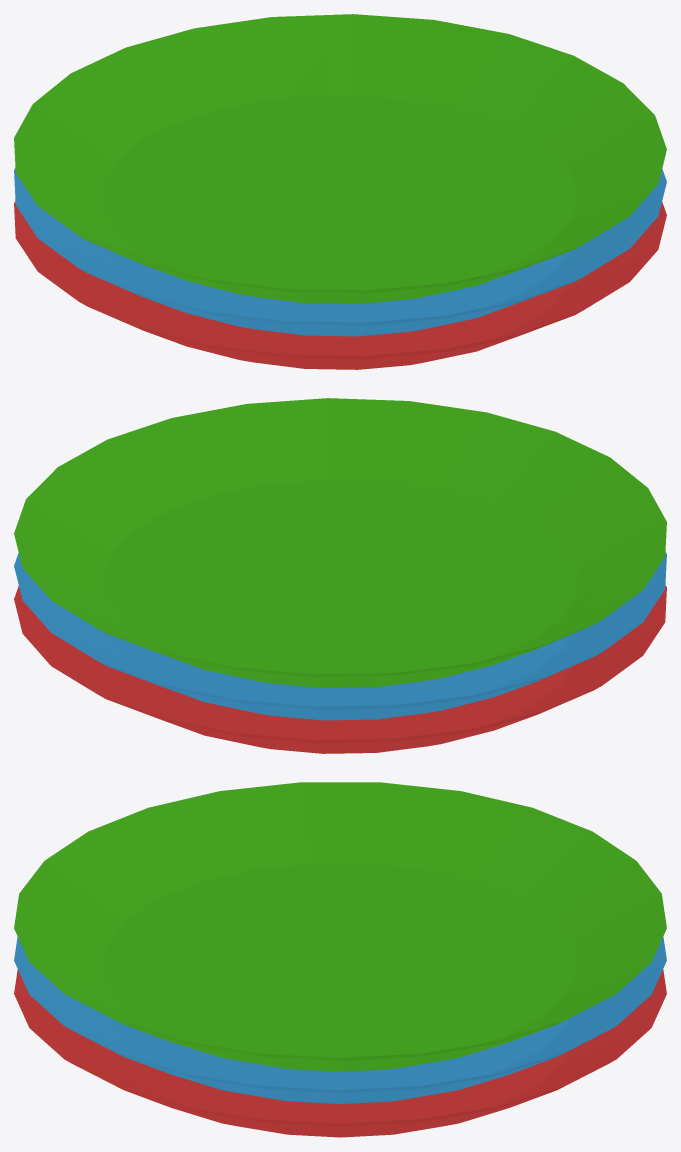
Rendered from Dishes.FBX.
The picture shows the model from 3 angles, top to bottom: view 1: azimuth 30°, elevation 25°; view 2: azimuth 150°, elevation 25°; view 3: azimuth 270°, elevation 25°; orthographic projection.
Parts seen in each view (by area): view 1: dish3, dish 1, dish 2; view 2: dish3, dish 1, dish 2; view 3: dish3, dish 1, dish 2.
Part boxes in pixels (bbox=[...]): dish3: bbox=[14, 14, 666, 303]; dish 1: bbox=[14, 201, 666, 369]; dish 2: bbox=[14, 168, 666, 336]; dish3: bbox=[14, 398, 666, 687]; dish 1: bbox=[14, 585, 666, 753]; dish 2: bbox=[14, 552, 666, 720]; dish3: bbox=[14, 782, 666, 1071]; dish 1: bbox=[14, 969, 666, 1137]; dish 2: bbox=[14, 937, 666, 1104].
Size of the model in its own units: 26.56 by 5.75 by 26.62.
Materials: 1 (1 with a texture image).
